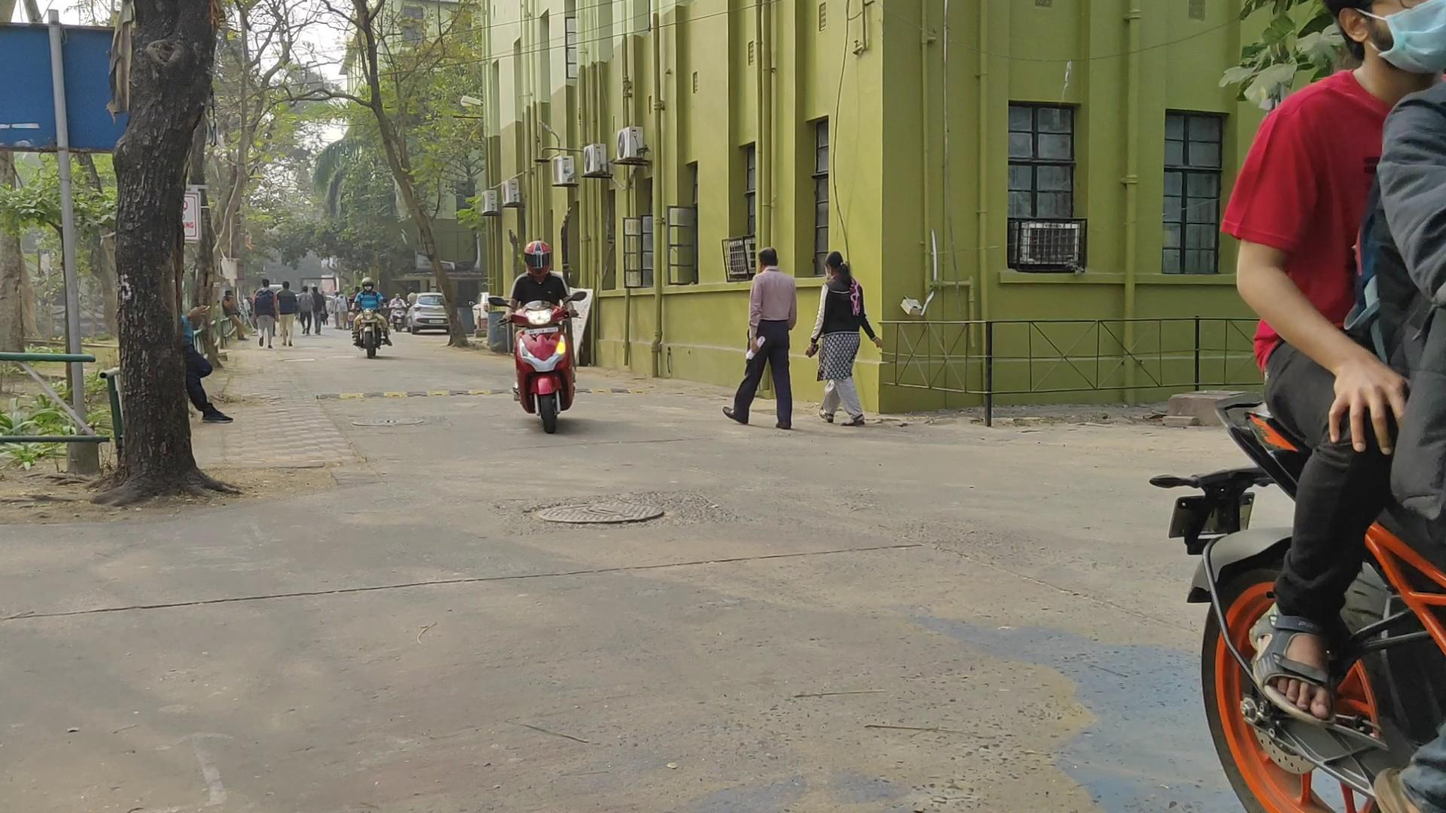bike: (1167, 6, 1446, 813), (489, 239, 588, 430), (348, 275, 397, 361), (387, 293, 410, 333)
car: (406, 292, 450, 335)
